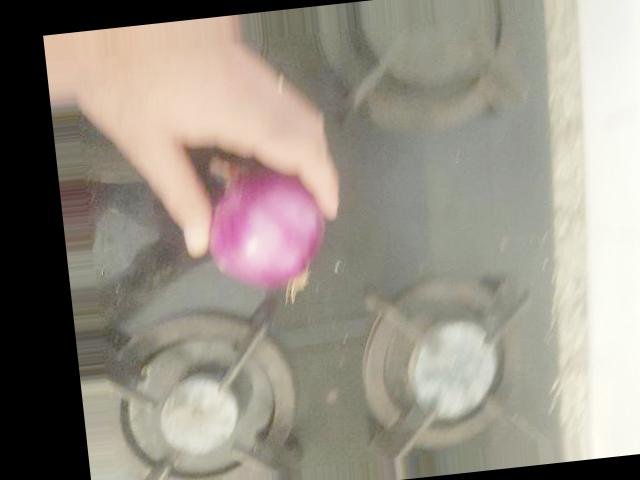onion: (197, 158, 329, 292)
